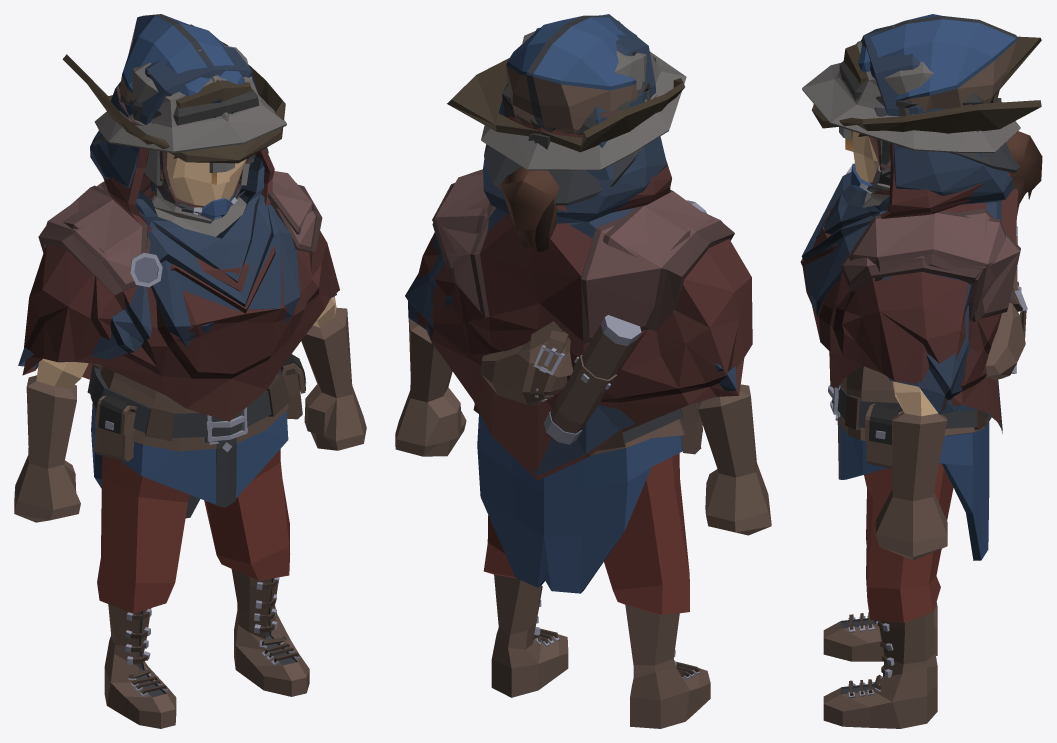
The model's file is HATS_Mage_female.fbx.
3 views of the same model, side by side, from view 1: azimuth 30°, elevation 25°; view 2: azimuth 150°, elevation 25°; view 3: azimuth 270°, elevation 25° (orthographic). The views are drawn at different scales.
Parts seen in each view (by area): view 1: mage_05a_female03_hats:mage_female, mage_05a_female03_hats:shall1, mage_05a_female03_hats:shall2, mage_05a_female03_hats:pothelm, mage_05a_female03_hats:mage_hat, mage_05a_female03_hats:huntershat, mage_05a_female03_hats:chain_helm, mage_05a_female03_hats:bandana; view 2: mage_05a_female03_hats:mage_female, mage_05a_female03_hats:shall1, mage_05a_female03_hats:shall2, mage_05a_female03_hats:mage_hat, mage_05a_female03_hats:pothelm, mage_05a_female03_hats:huntershat, mage_05a_female03_hats:chain_helm, mage_05a_female03_hats:bandana; view 3: mage_05a_female03_hats:mage_female, mage_05a_female03_hats:shall1, mage_05a_female03_hats:shall2, mage_05a_female03_hats:mage_hat, mage_05a_female03_hats:pothelm, mage_05a_female03_hats:huntershat, mage_05a_female03_hats:chain_helm, mage_05a_female03_hats:bandana.
Boxes of the visible parts, x1,y1,x2,y2 form: mage_05a_female03_hats:mage_female: (14, 152, 366, 728); mage_05a_female03_hats:shall1: (22, 148, 339, 421); mage_05a_female03_hats:shall2: (18, 46, 336, 367); mage_05a_female03_hats:pothelm: (94, 45, 286, 207); mage_05a_female03_hats:mage_hat: (93, 14, 262, 219); mage_05a_female03_hats:huntershat: (62, 24, 285, 163); mage_05a_female03_hats:chain_helm: (144, 149, 253, 236); mage_05a_female03_hats:bandana: (117, 72, 259, 125); mage_05a_female03_hats:mage_female: (395, 315, 771, 728); mage_05a_female03_hats:shall1: (417, 116, 752, 480); mage_05a_female03_hats:shall2: (405, 14, 736, 475); mage_05a_female03_hats:mage_hat: (484, 15, 643, 205); mage_05a_female03_hats:pothelm: (481, 16, 686, 170); mage_05a_female03_hats:huntershat: (447, 20, 684, 152); mage_05a_female03_hats:chain_helm: (500, 167, 559, 251); mage_05a_female03_hats:bandana: (502, 50, 656, 174); mage_05a_female03_hats:mage_female: (823, 130, 1027, 728); mage_05a_female03_hats:shall1: (800, 98, 1020, 433); mage_05a_female03_hats:shall2: (801, 25, 1014, 430); mage_05a_female03_hats:mage_hat: (850, 14, 1020, 193); mage_05a_female03_hats:pothelm: (802, 26, 1020, 190); mage_05a_female03_hats:huntershat: (812, 36, 1041, 133); mage_05a_female03_hats:chain_helm: (839, 127, 1042, 207); mage_05a_female03_hats:bandana: (839, 61, 1010, 152).
Size of the model in its own units: 515 by 900 by 296.
